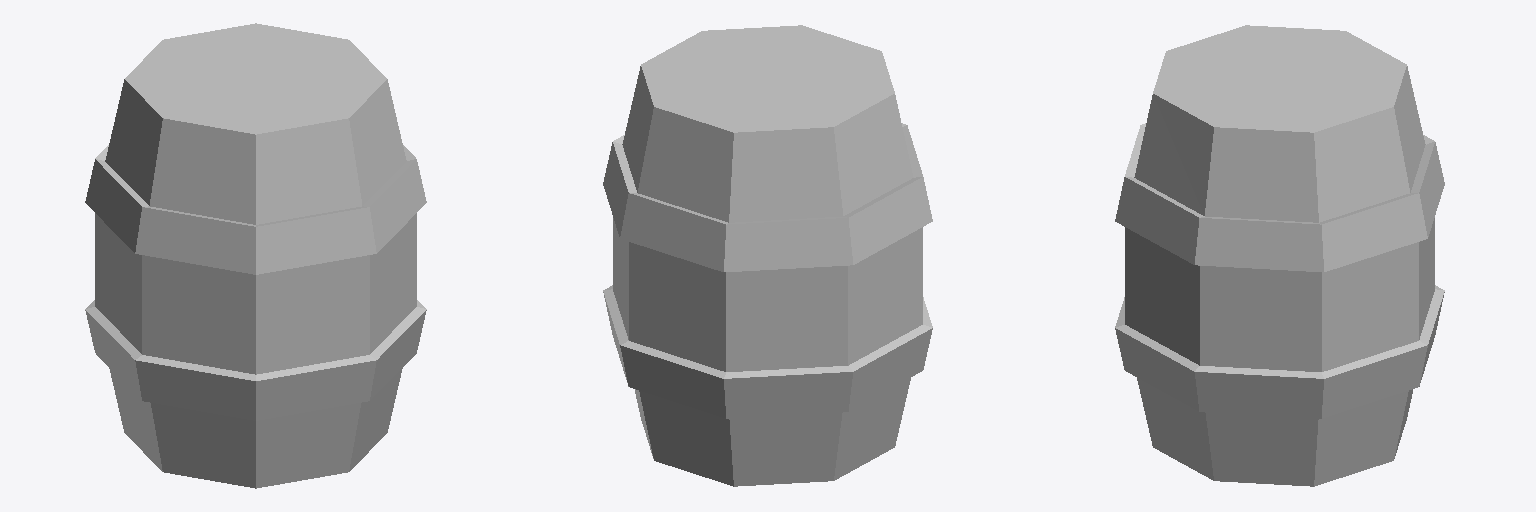
Rendered from BarilOBJ.obj.
The picture shows the model from 3 angles: view 1: azimuth 30°, elevation 25°; view 2: azimuth 150°, elevation 25°; view 3: azimuth 270°, elevation 25°; orthographic projection.
Visible parts, largest first — view 1: Baril; view 2: Baril; view 3: Baril.
Boxes of the visible parts, x1,y1,x2,y2 form: Baril: [85, 23, 426, 488]; Baril: [603, 25, 932, 486]; Baril: [1115, 25, 1444, 486].
Bounding box in the file's own units: 0.7974 × 0.9438 × 0.7974.